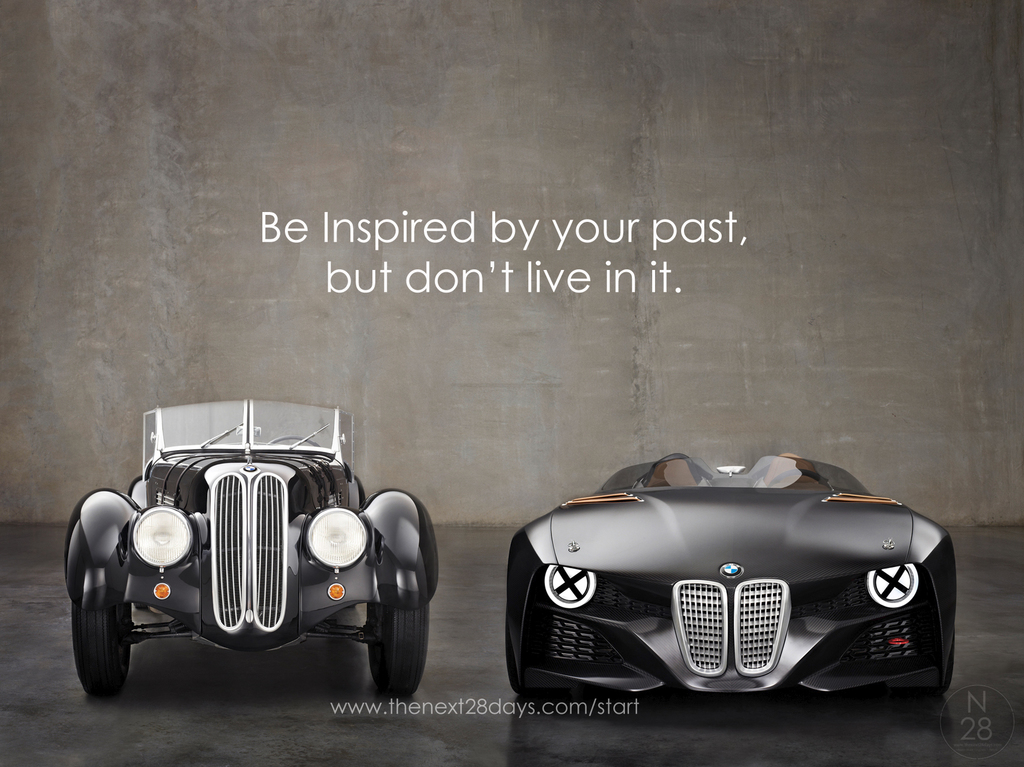Car: (478, 444, 958, 721), (62, 397, 438, 705)
